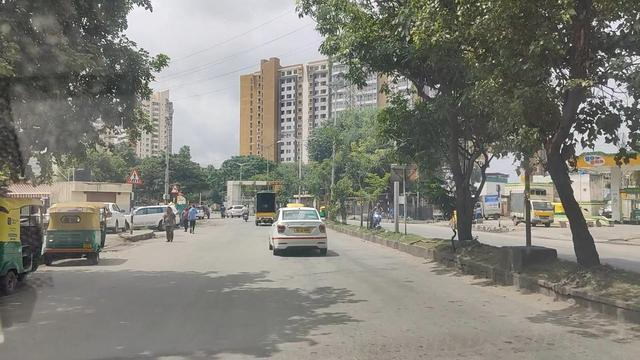LMV: (269, 207, 327, 258), (46, 213, 104, 262)
